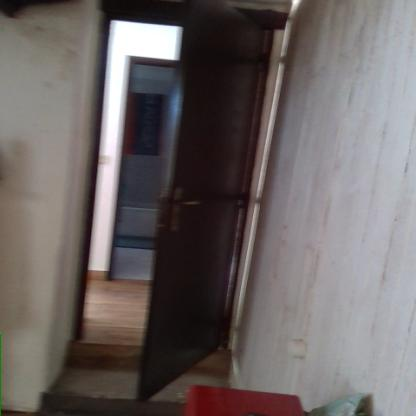semi: (59, 6, 308, 404)
